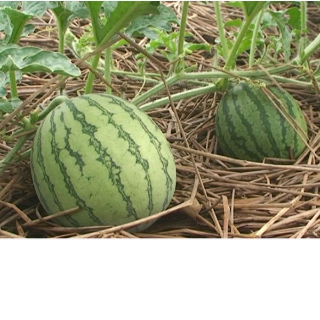dua_hau: (27, 91, 178, 237), (211, 75, 313, 173)
